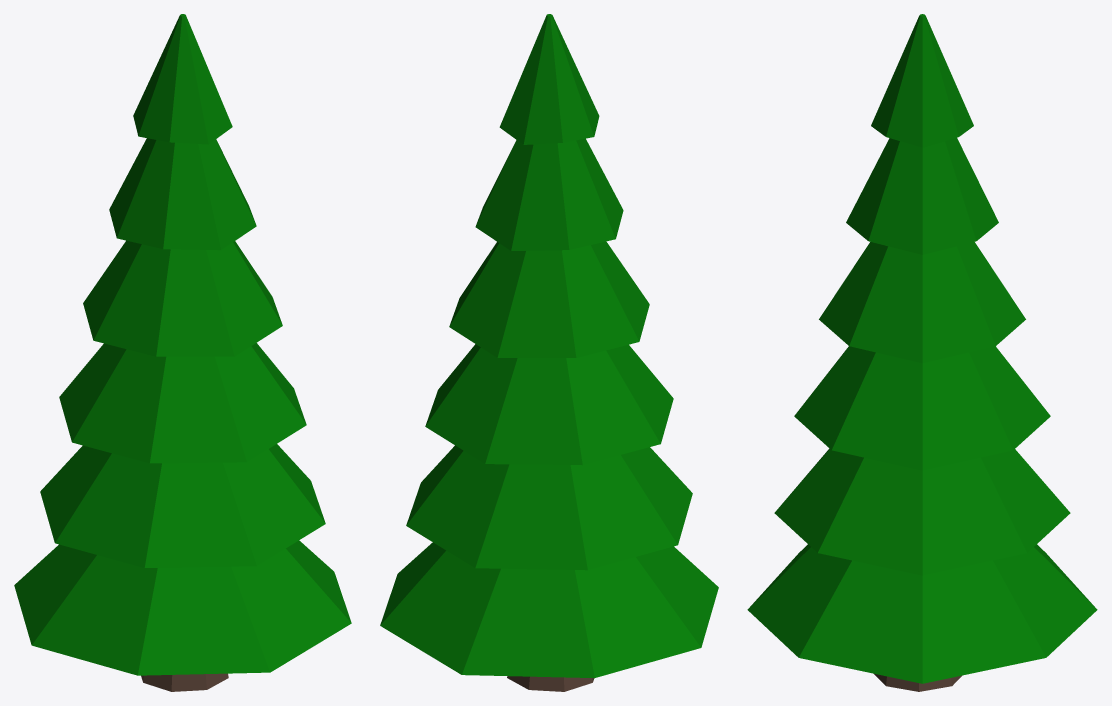
The model's file is pine_tree.fbx.
3 renders of one model, left to right at view 1: azimuth 30°, elevation 25°; view 2: azimuth 150°, elevation 25°; view 3: azimuth 270°, elevation 25°, orthographic.
Parts seen in each view (by area): view 1: Cylinder, Cylinder.001; view 2: Cylinder, Cylinder.001; view 3: Cylinder, Cylinder.001.
Boxes of the visible parts, <box> form: Cylinder: <box>14,14,351,675</box>; Cylinder.001: <box>141,673,228,691</box>; Cylinder: <box>380,14,718,678</box>; Cylinder.001: <box>507,676,594,691</box>; Cylinder: <box>747,14,1097,683</box>; Cylinder.001: <box>874,673,962,691</box>.
Size of the model in its own units: 333 by 691 by 333.
